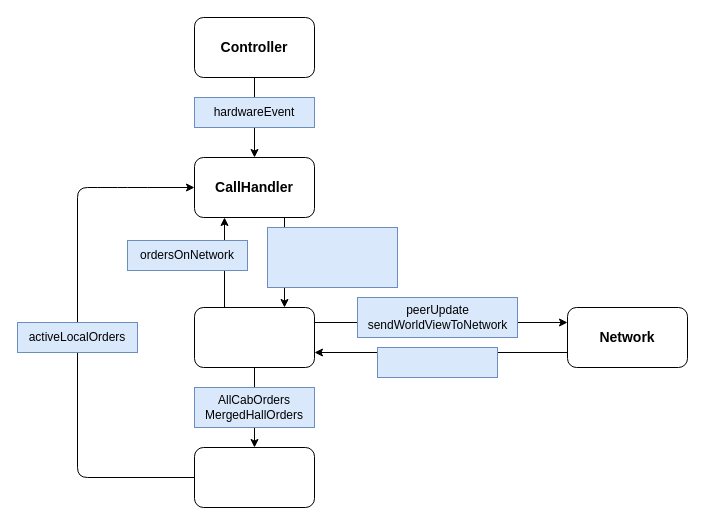
This 705x525 diagram has some shape labels left out. Each missing label, with the centre of its shape:
"ElevatorServer" belongs at (x=254, y=337).
"hallOrderUpdate cabOrderUpdate elevatorStateUpdate" belongs at (x=332, y=257).
"OrderDistributor" belongs at (x=254, y=477).
"ReceiveWorldview" belongs at (x=437, y=362).
